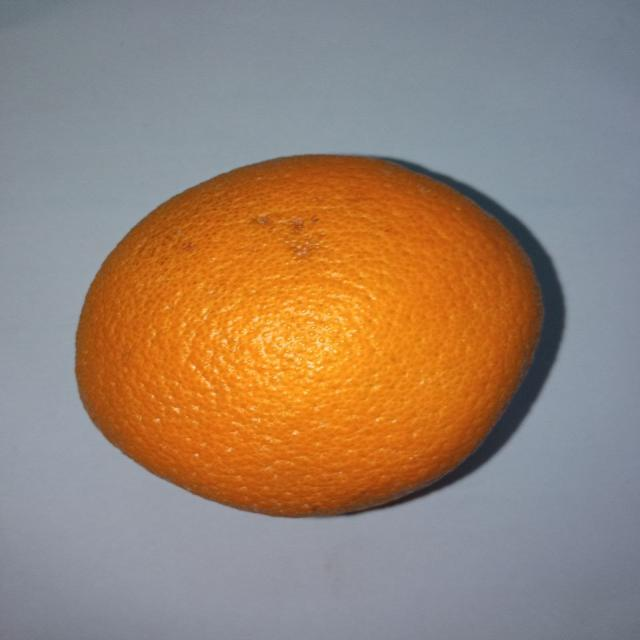fresh_orange: (73, 154, 546, 518)
